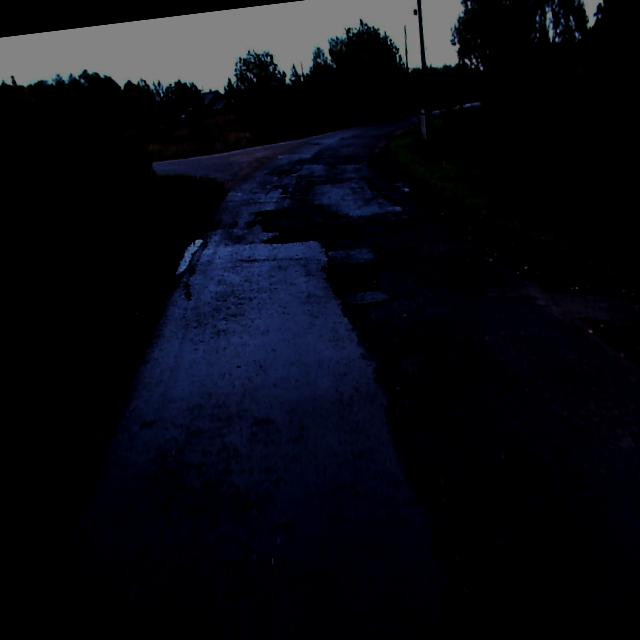road: (31, 113, 640, 640)
